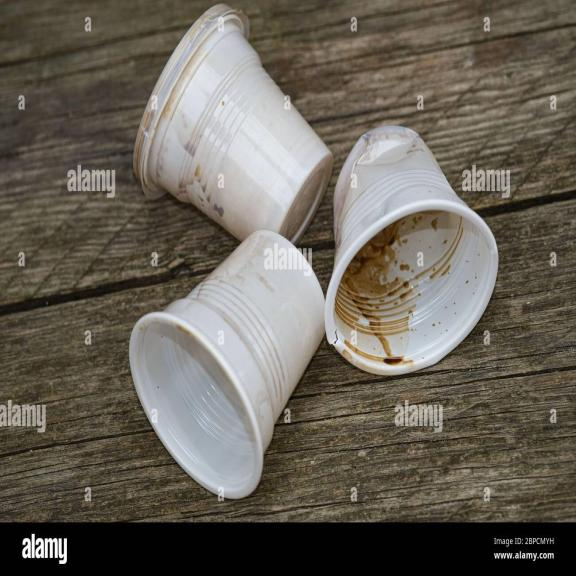Plastik: (130, 231, 324, 498), (134, 4, 332, 242), (325, 126, 498, 374)
